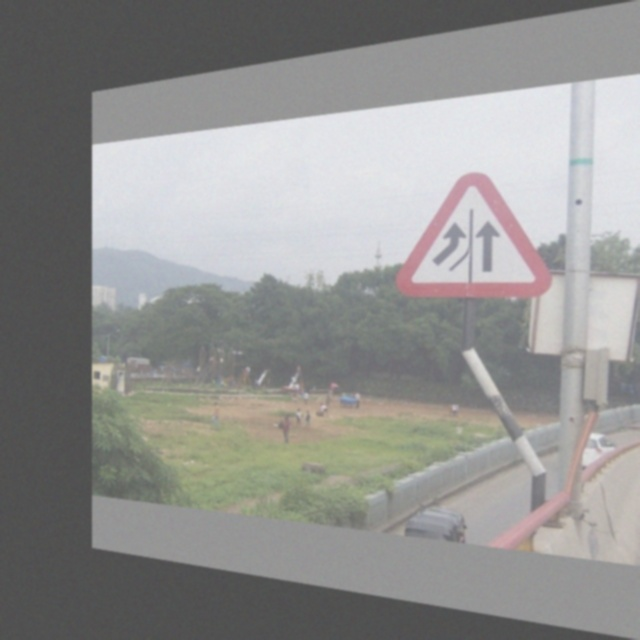Merge_Traffic_Ahead: (401, 163, 554, 305)
